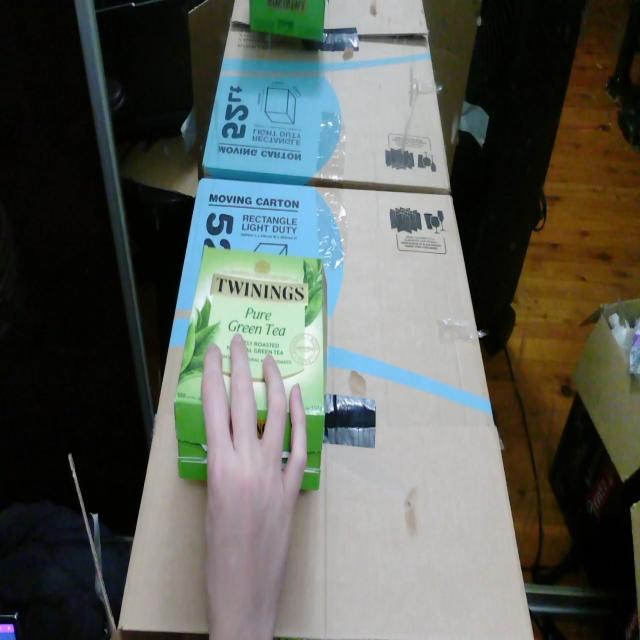twinings_greentea_box: (174, 247, 327, 490)
